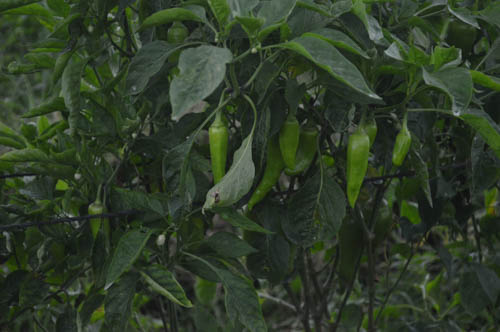ChiliPepper: (247, 139, 285, 206), (341, 133, 370, 206), (294, 127, 322, 172), (206, 128, 228, 182), (277, 123, 298, 162), (387, 133, 410, 165), (358, 121, 378, 140)
